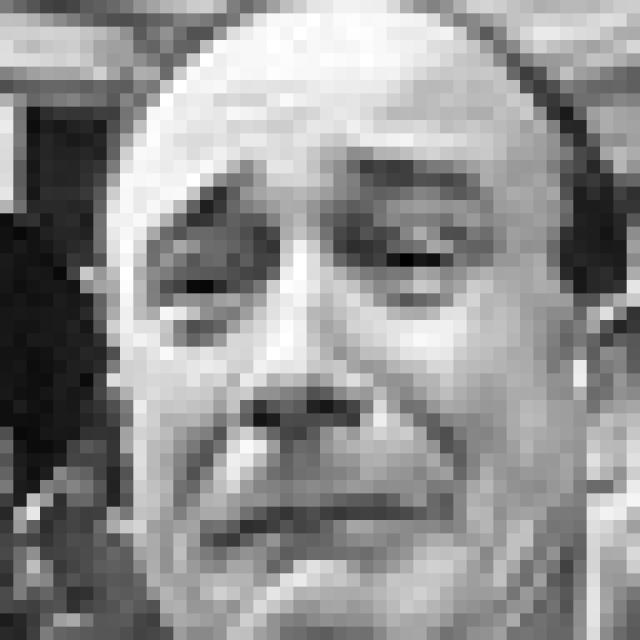sad: (138, 137, 505, 610)
